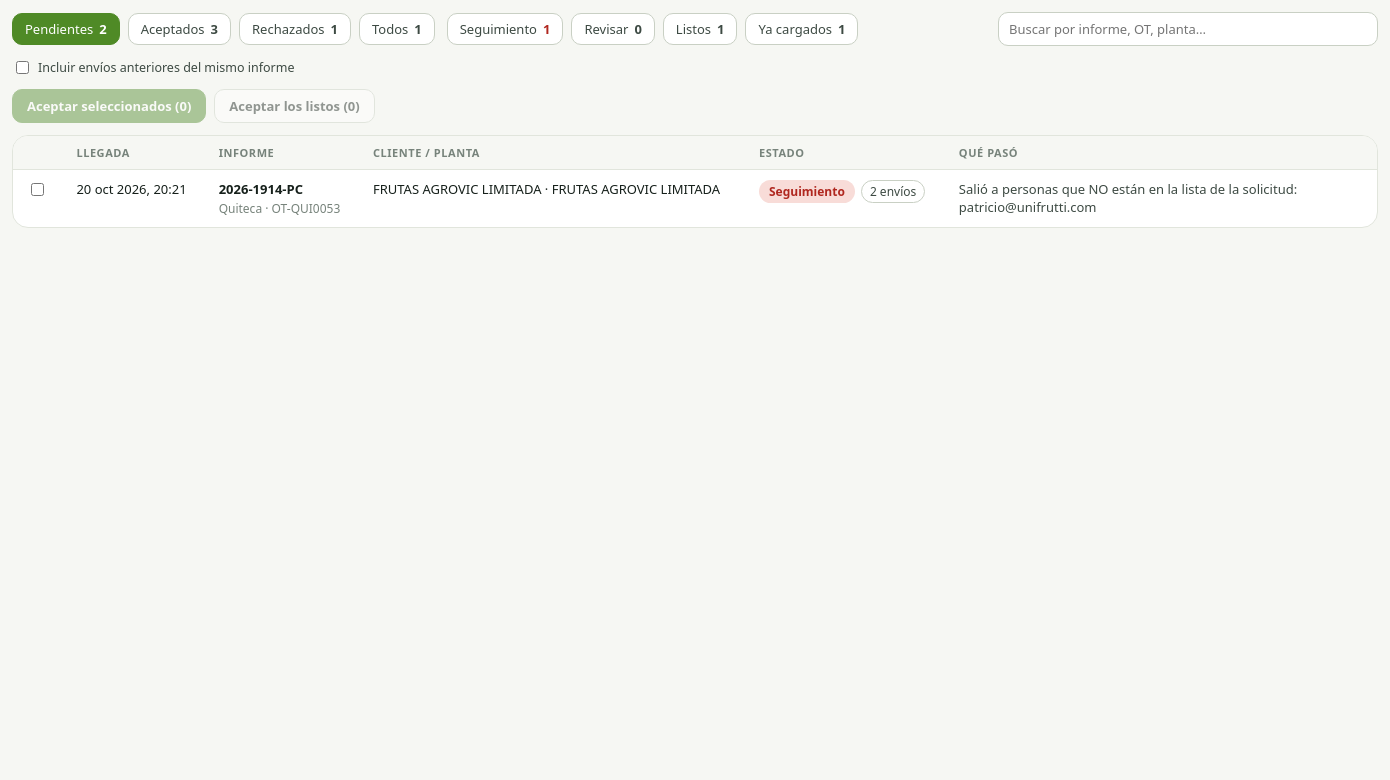
Test: BandejaCorreo › al abrir un informe enviado varias veces muestra su historial como un solo incidente
The image size is (1390, 780).
Click the text "Quiteca · OT-QUI0053" at (282, 208), box [219,200,345,217]
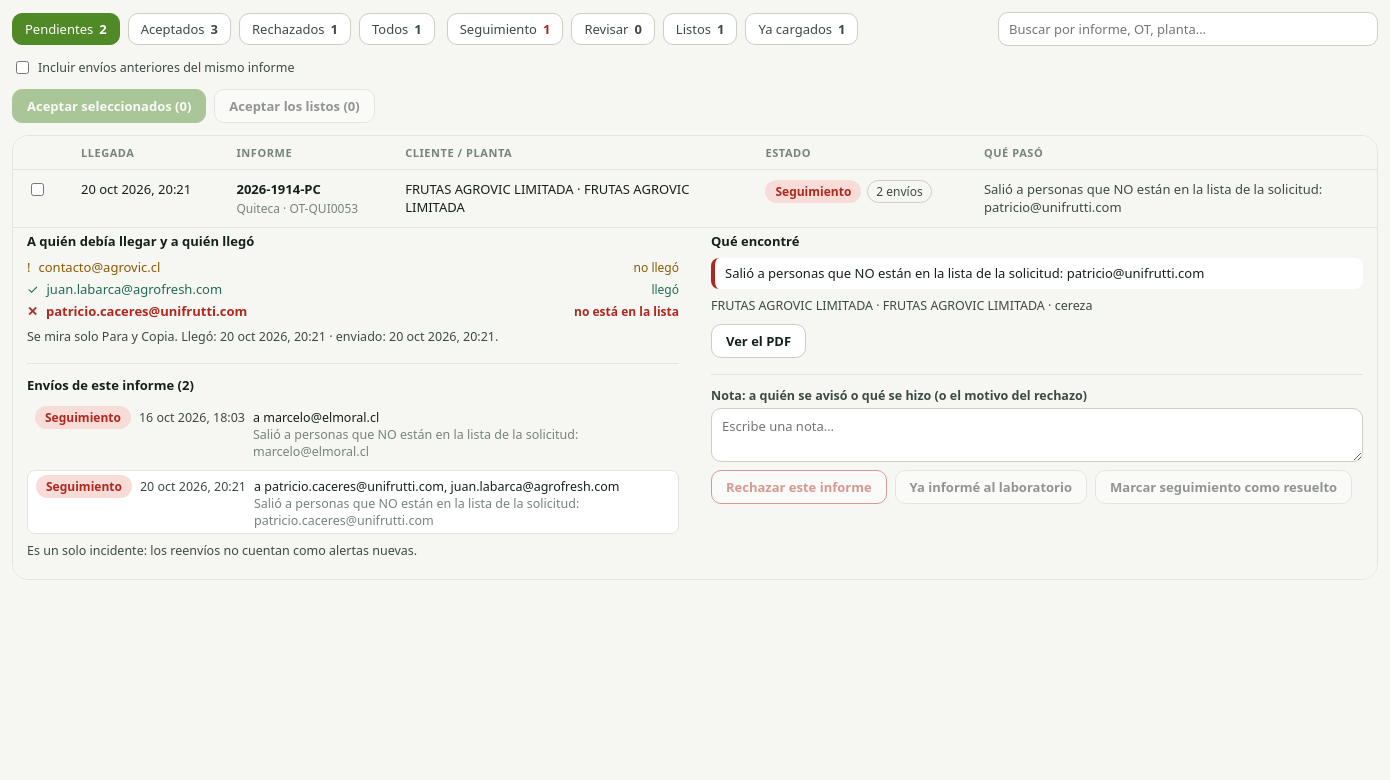
Expected: the heading "Envíos de este informe (2)" is shown, [27,376,194,394]
Expected: the text "Es un solo incidente" is shown, [27,542,417,559]
Expected: the text "a marcelo@elmoral.cl" is shown, [253,409,578,460]
